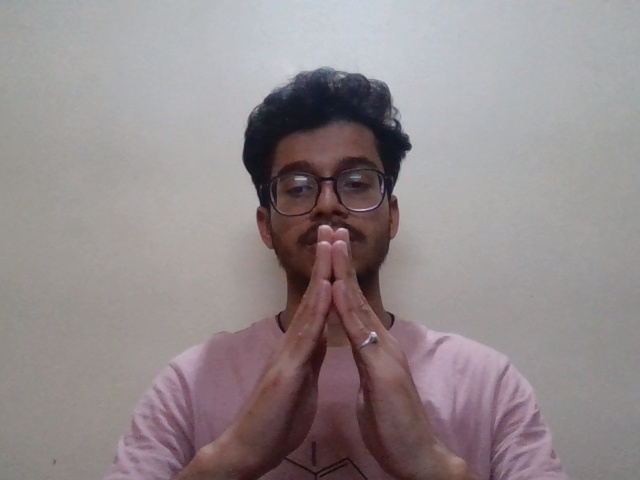home: (233, 219, 442, 460)
